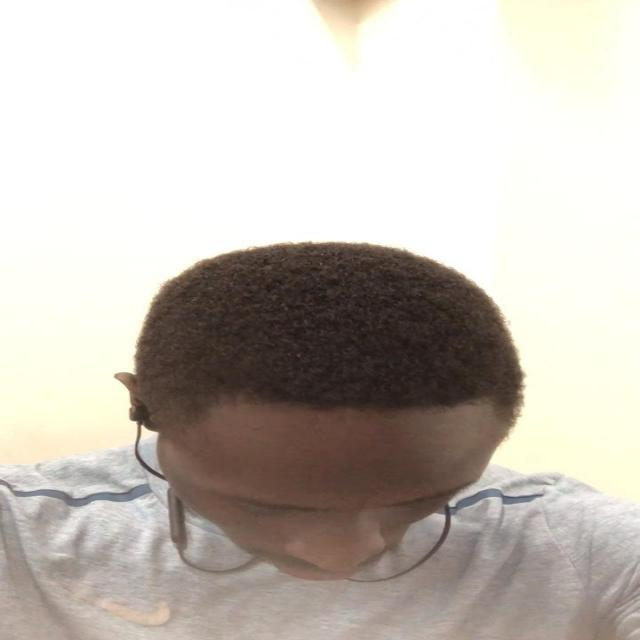face: (137, 412, 518, 582)
